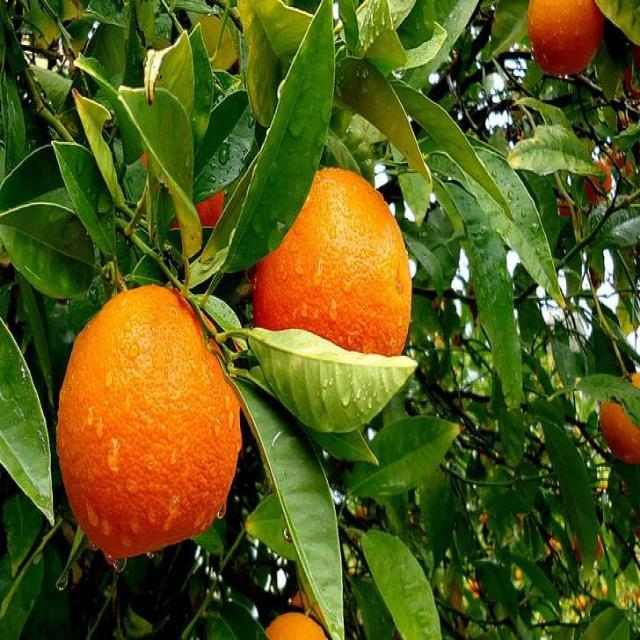Jeruk Sudah Matang: (48, 266, 261, 566), (245, 138, 418, 411), (521, 0, 602, 91), (591, 362, 640, 469)
